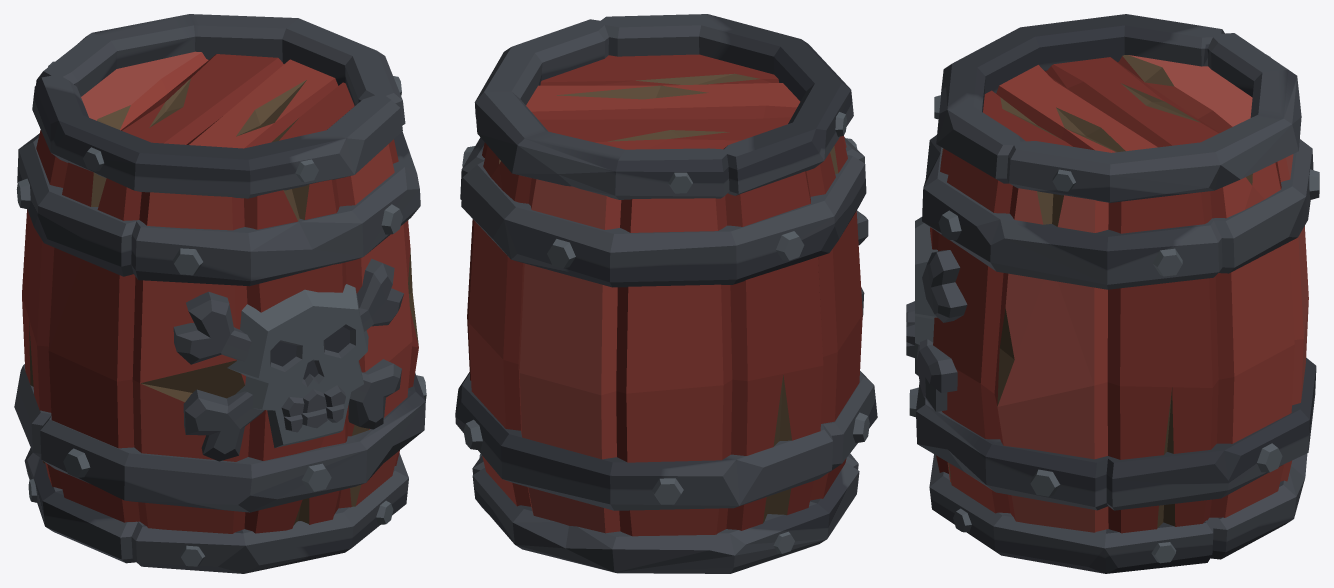
File: SM_Prop_Barrel_06.fbx
3 renders of one model, left to right at view 1: azimuth 30°, elevation 25°; view 2: azimuth 150°, elevation 25°; view 3: azimuth 270°, elevation 25°, orthographic.
Parts seen in each view (by area): view 1: SM_Prop_Barrel_06; view 2: SM_Prop_Barrel_06; view 3: SM_Prop_Barrel_06.
Boxes of the visible parts, x1,y1,x2,y2 form: SM_Prop_Barrel_06: (14,14,426,573); SM_Prop_Barrel_06: (455,14,877,573); SM_Prop_Barrel_06: (906,14,1319,573).
Size of the model in its own units: 83.68 by 91.9 by 84.37.
